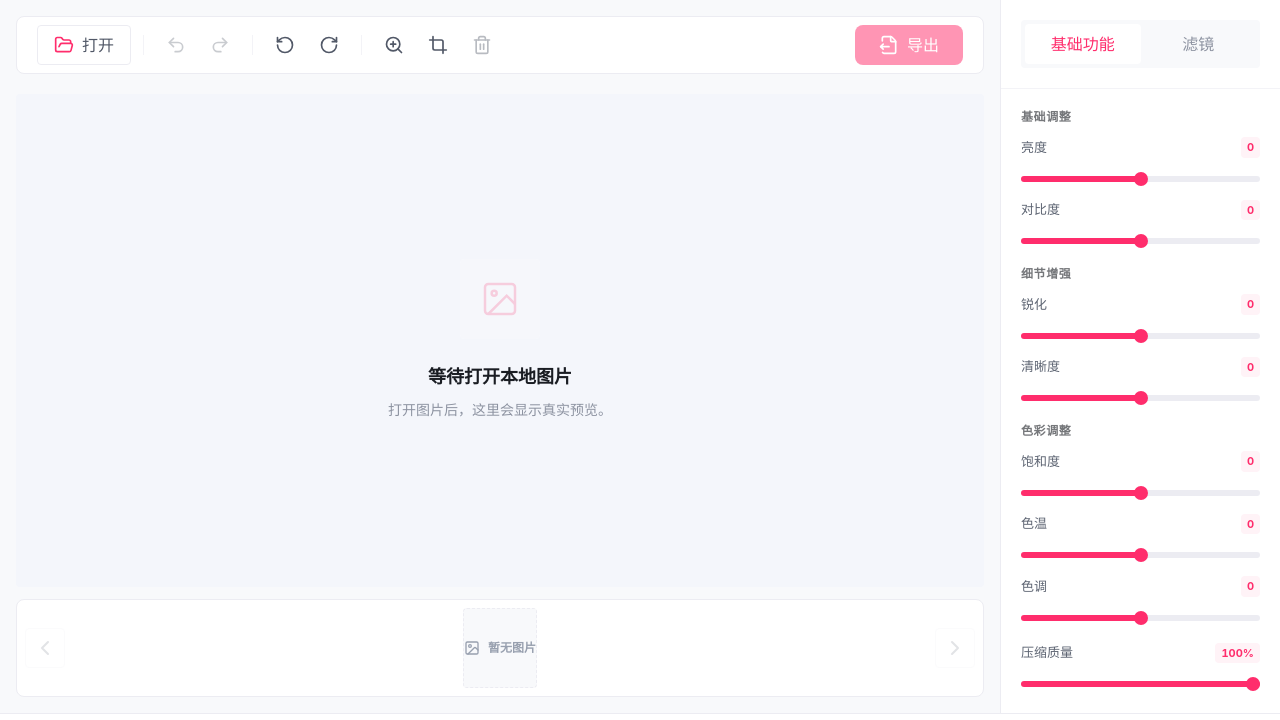
Test case: ImageEditorPage redesign layout › switches between basic adjustments and filters and shows temperature and tint sliders
The width and height of the screenshot is (1280, 720).
expect the slider labelled "亮度" is shown: met, box left=1021, top=176, right=1260, bottom=182
expect the slider labelled "色温" is shown: met, box left=1021, top=552, right=1260, bottom=558
Click the button "滤镜": [1198, 44] box left=1140, top=24, right=1256, bottom=64
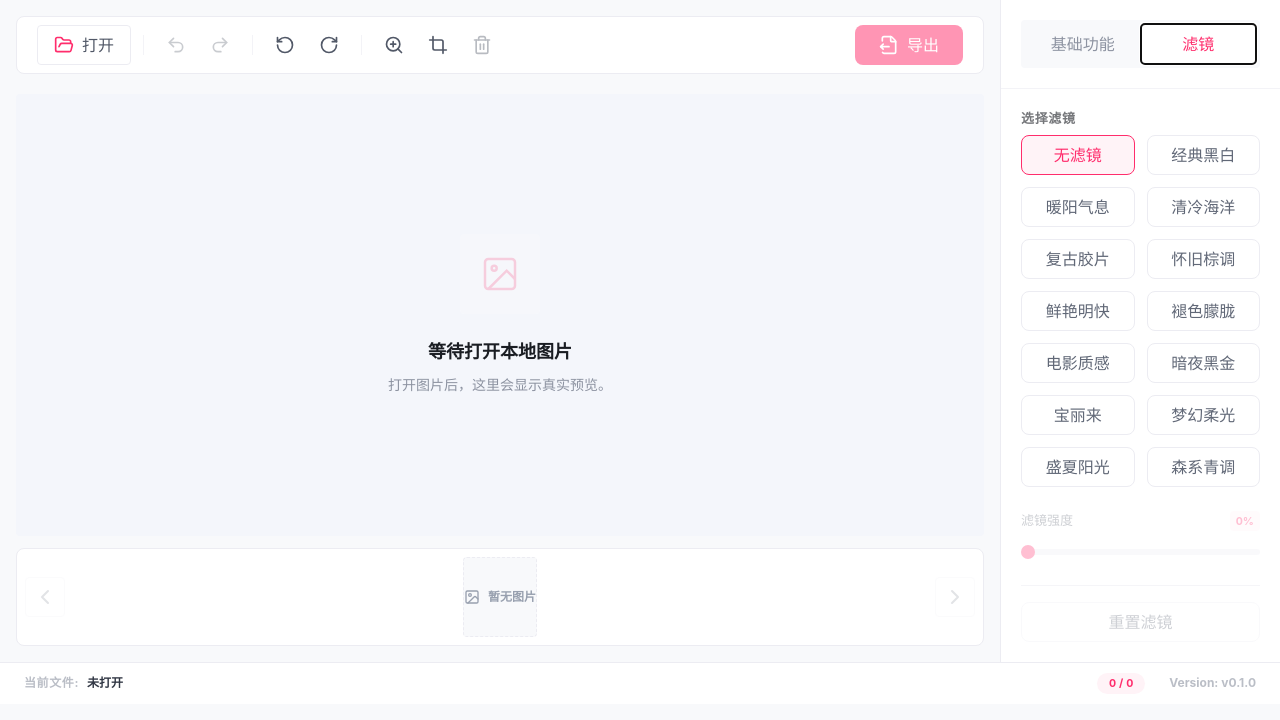
expect the button "经典黑白" is shown: met, box left=1146, top=134, right=1260, bottom=174
expect the button "暖阳气息" is shown: met, box left=1021, top=186, right=1134, bottom=226
expect the button "清冷海洋" is shown: met, box left=1146, top=186, right=1260, bottom=226
